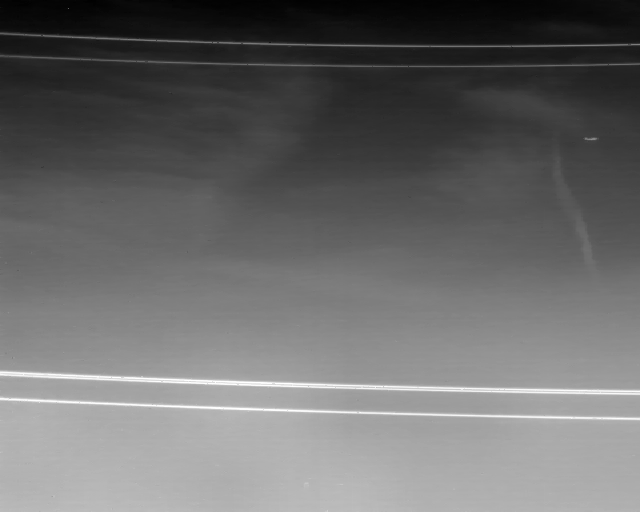Target: (583, 138, 598, 142)
